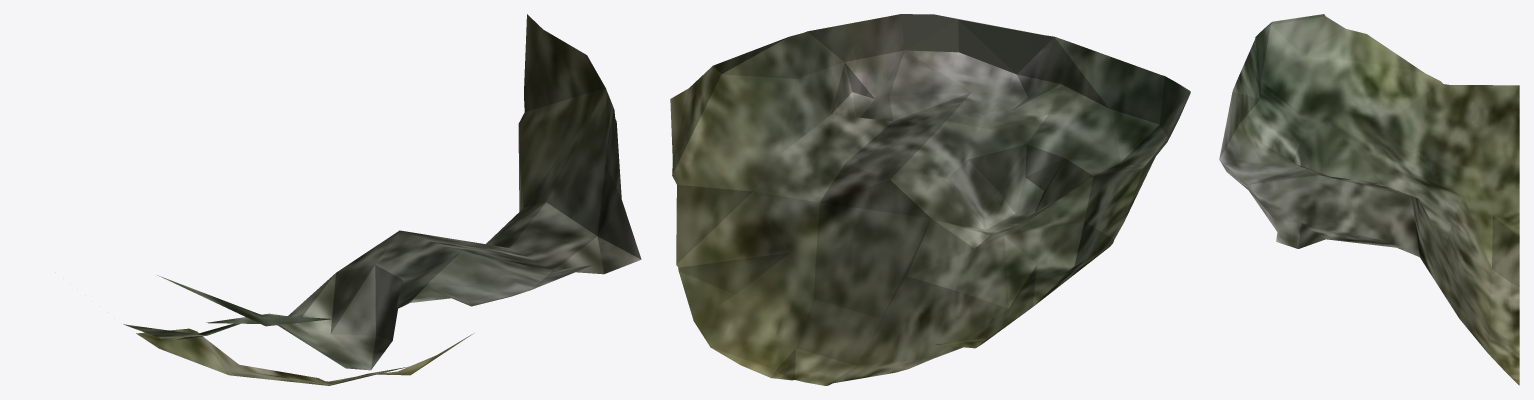
The picture shows the model from 3 angles, left to right: view 1: azimuth 30°, elevation 25°; view 2: azimuth 150°, elevation 25°; view 3: azimuth 270°, elevation 25°; orthographic projection. The views are drawn at different scales.
Size of the model in its own units: 1.68 by 1.01 by 1.2.
1 material, 1 textured.
